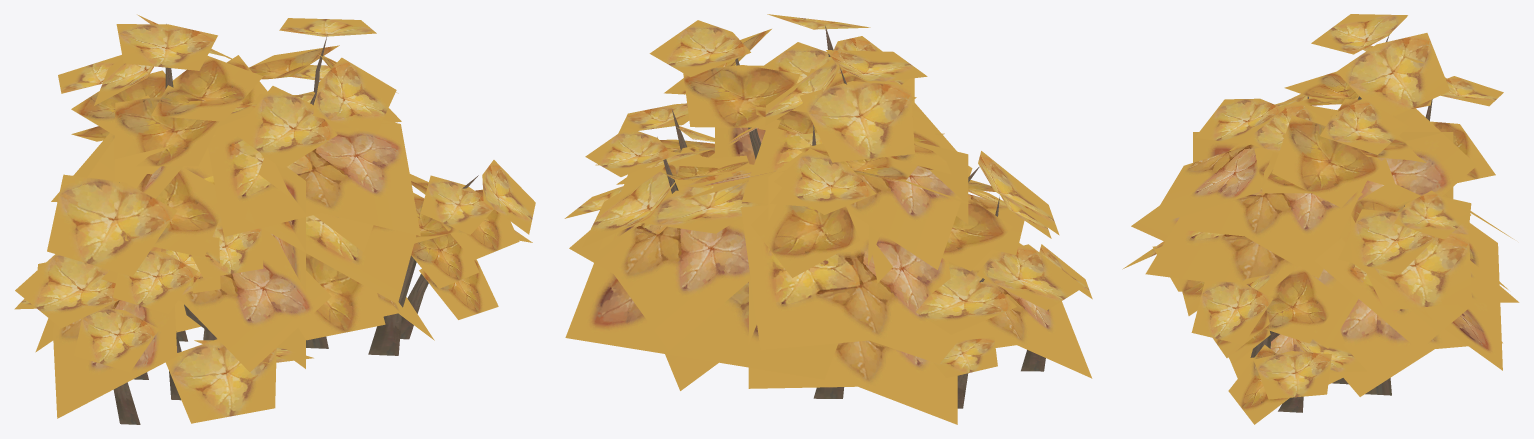
File: Homeworld_Exterior_Xm_Plant_Grass_Desert_10_Lod0.fbx
The picture shows the model from 3 angles, left to right: view 1: azimuth 30°, elevation 25°; view 2: azimuth 150°, elevation 25°; view 3: azimuth 270°, elevation 25°; orthographic projection. The views are drawn at different scales.
Visible parts, largest first — view 1: Area_Xm_Grass_CWSM_Hc_02_Lod0; view 2: Area_Xm_Grass_CWSM_Hc_02_Lod0; view 3: Area_Xm_Grass_CWSM_Hc_02_Lod0.
Part boxes in pixels (<box>): Area_Xm_Grass_CWSM_Hc_02_Lod0: <box>14,14,535,424</box>; Area_Xm_Grass_CWSM_Hc_02_Lod0: <box>564,14,1092,424</box>; Area_Xm_Grass_CWSM_Hc_02_Lod0: <box>1122,14,1519,424</box>.
Bounding box in the file's own units: 1.6 × 1.02 × 1.24.
1 material, 1 textured.
